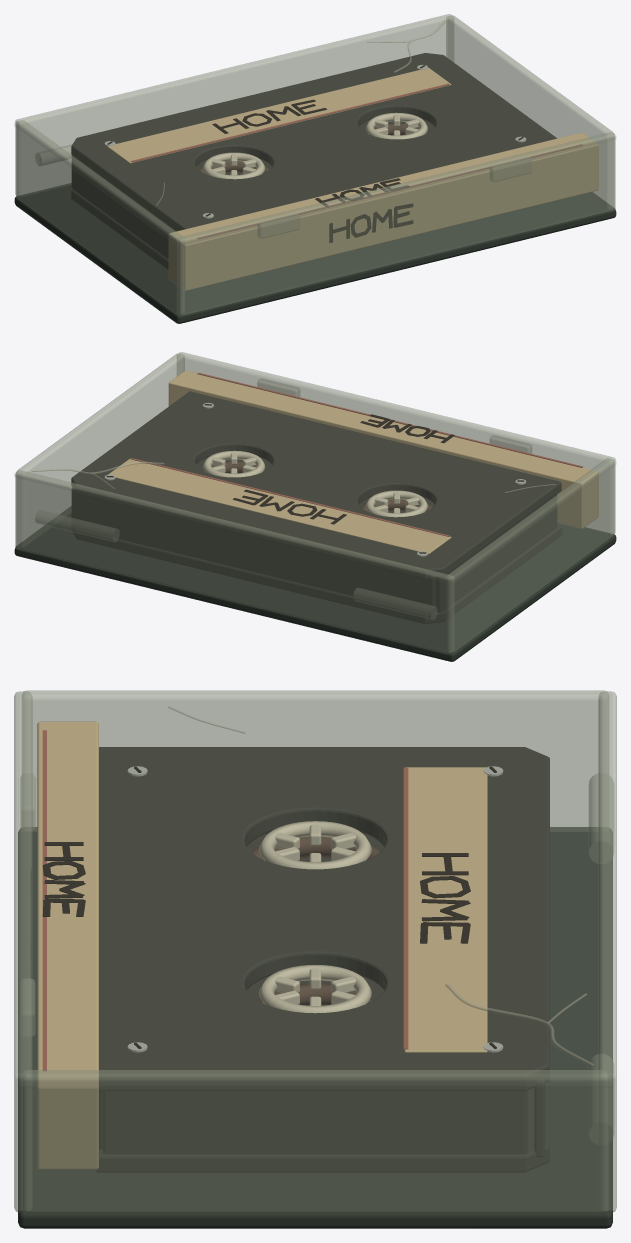
Rendered from ren-home-cassette.glb.
The picture shows the model from 3 angles, top to bottom: view 1: azimuth 30°, elevation 25°; view 2: azimuth 150°, elevation 25°; view 3: azimuth 270°, elevation 25°; orthographic projection. The views are drawn at different scales.
Parts seen in each view (by area): view 1: ren-home-cassette, closed clear lid, cassette moulding with hub apertures (×2), folded J-card spine, case rear tray, hand-labelled cassette face, nylon drive hub (×2); view 2: ren-home-cassette, closed clear lid, cassette moulding with hub apertures (×2), case rear tray, folded J-card spine, hand-labelled cassette face, case hinge knuckle (×2), nylon drive hub (×2); view 3: closed clear lid, ren-home-cassette, cassette moulding with hub apertures (×2), case rear tray, folded J-card spine, hand-labelled cassette face, nylon drive hub (×2), case hinge knuckle (×2), tape winding.
Part boxes in pixels (x1,y1,x2,y2): ren-home-cassette: [15, 14, 615, 316]; closed clear lid: [14, 20, 616, 245]; cassette moulding with hub apertures (×2): [71, 53, 557, 269]; folded J-card spine: [168, 132, 598, 290]; case rear tray: [14, 183, 616, 323]; hand-labelled cassette face: [107, 67, 451, 163]; nylon drive hub (×2): [203, 112, 427, 179]; ren-home-cassette: [15, 352, 615, 654]; closed clear lid: [14, 358, 616, 583]; cassette moulding with hub apertures (×2): [71, 391, 562, 624]; case rear tray: [14, 506, 616, 661]; folded J-card spine: [168, 370, 598, 528]; hand-labelled cassette face: [108, 458, 451, 554]; case hinge knuckle (×2): [35, 510, 437, 619]; nylon drive hub (×2): [203, 450, 427, 517]; closed clear lid: [18, 699, 612, 1086]; ren-home-cassette: [14, 690, 616, 1213]; cassette moulding with hub apertures (×2): [96, 747, 549, 1172]; case rear tray: [18, 827, 612, 1228]; folded J-card spine: [37, 721, 98, 1169]; hand-labelled cassette face: [404, 767, 487, 1052]; nylon drive hub (×2): [259, 821, 371, 1013]; case hinge knuckle (×2): [589, 773, 613, 1144]; tape winding: [251, 836, 379, 859].
Bounding box in the file's own units: 0.119 × 0.0222 × 0.078.
